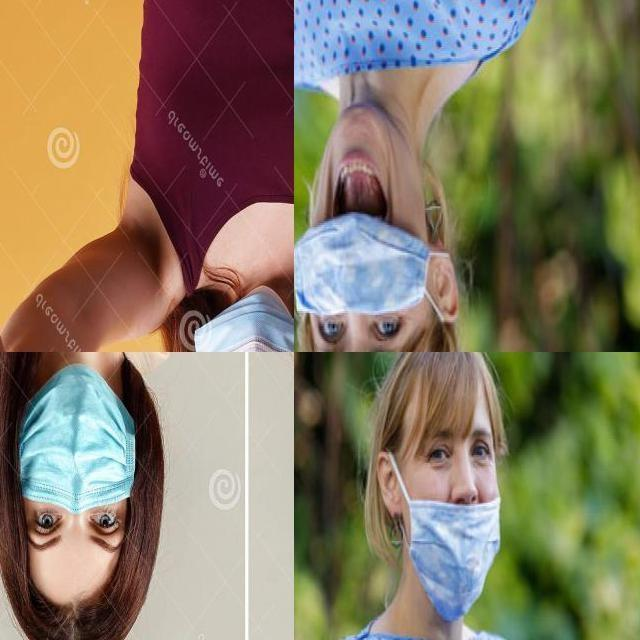hairnet: (303, 118, 424, 310), (400, 475, 502, 610)
mask: (1, 361, 146, 537)
